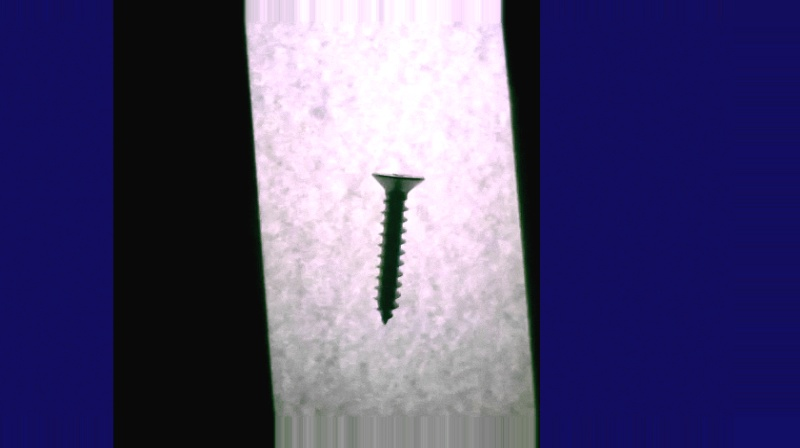S001: (364, 170, 423, 327)
